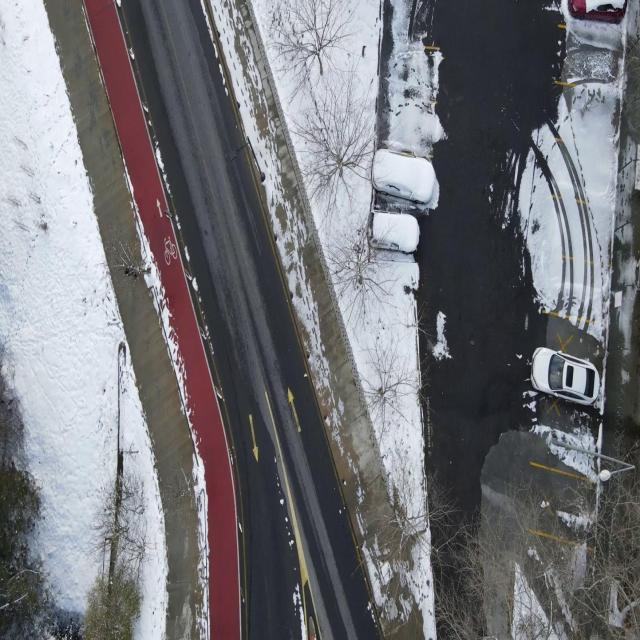p3rson: (125, 267, 137, 278)
